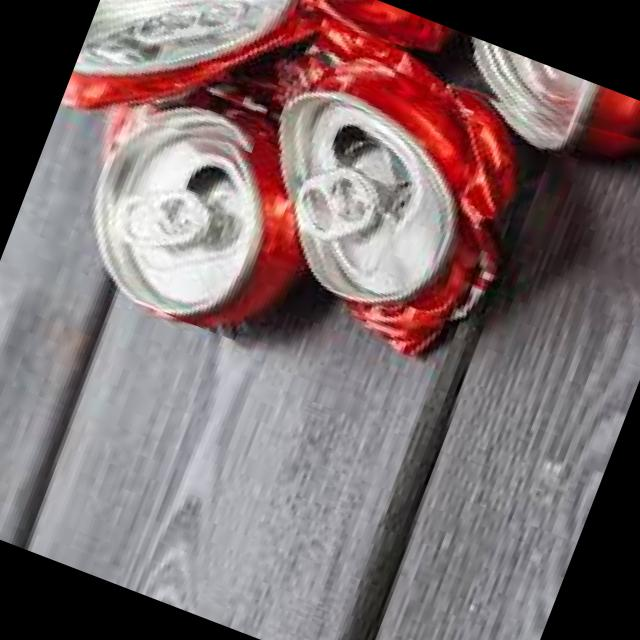Cans: (278, 44, 562, 332), (80, 97, 306, 340), (73, 0, 309, 163), (458, 38, 640, 183), (280, 0, 479, 110)
